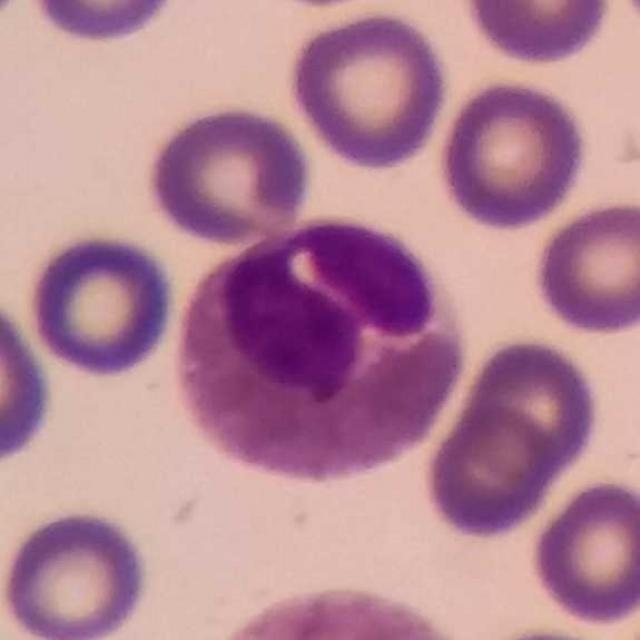Eosinophil: (169, 208, 466, 496), (216, 577, 476, 640)
RBC: (425, 332, 606, 534), (284, 6, 453, 172), (142, 100, 315, 248), (433, 74, 592, 232), (23, 226, 182, 383), (1, 503, 154, 640), (526, 475, 640, 628), (528, 194, 640, 338), (457, 0, 618, 68), (0, 292, 58, 472), (22, 0, 186, 47)
